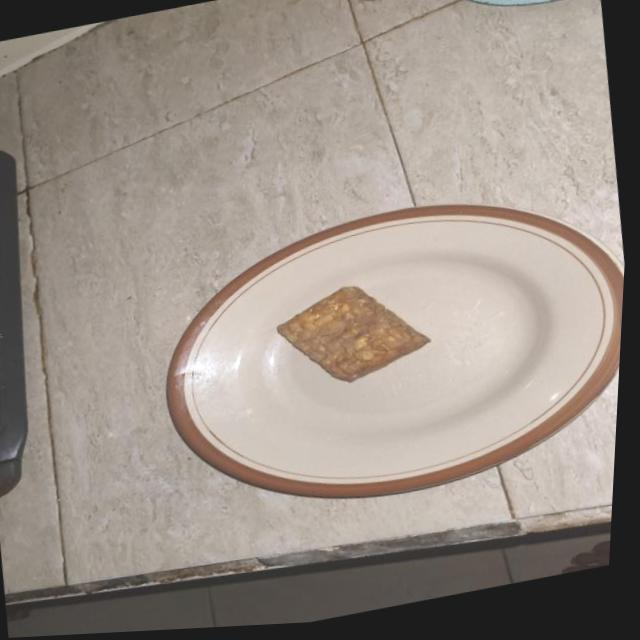tempe_goreng: (278, 287, 430, 382)
